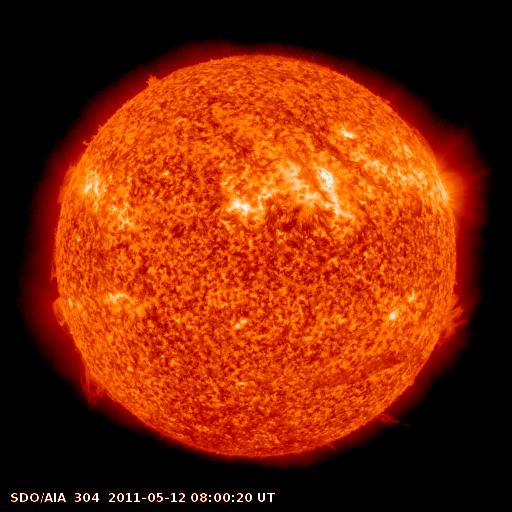prominence: (56, 117, 103, 204), (430, 289, 475, 355), (69, 357, 121, 414), (361, 393, 413, 440), (404, 120, 442, 174), (43, 287, 81, 338), (37, 227, 69, 283), (135, 65, 173, 99)
